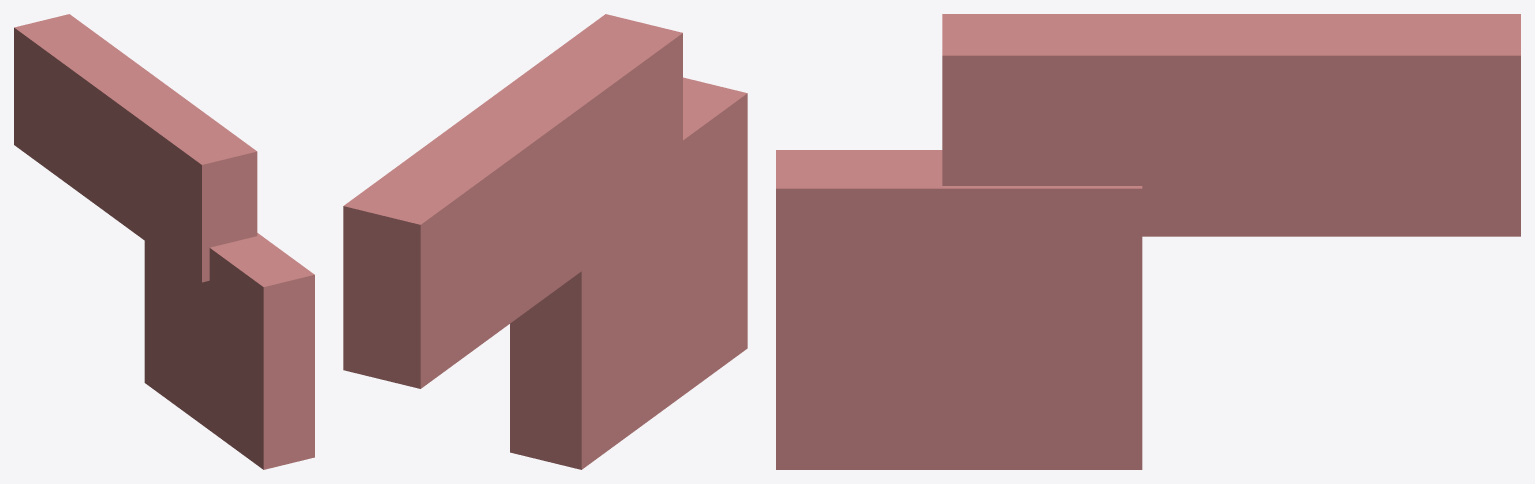
The model's file is 199523_occ.glb.
The picture shows the model from 3 angles, left to right: view 1: azimuth 30°, elevation 25°; view 2: azimuth 150°, elevation 25°; view 3: azimuth 270°, elevation 25°; orthographic projection. The views are drawn at different scales.
Visible parts, largest first — view 1: world; view 2: world; view 3: world.
Part boxes in pixels (left/top/right/bottom): world: left=14, top=14, right=314, bottom=469; world: left=343, top=14, right=747, bottom=469; world: left=776, top=14, right=1520, bottom=469.
Bounding box in the file's own units: 0.9599 × 4.16 × 6.82.
